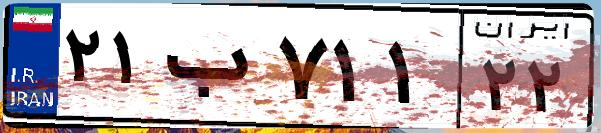1: (385, 28, 445, 110), (330, 28, 385, 110), (110, 28, 158, 98)
2: (57, 26, 110, 100), (475, 38, 525, 113), (525, 38, 570, 115)
7: (270, 28, 330, 110)
ب: (158, 20, 270, 120)
